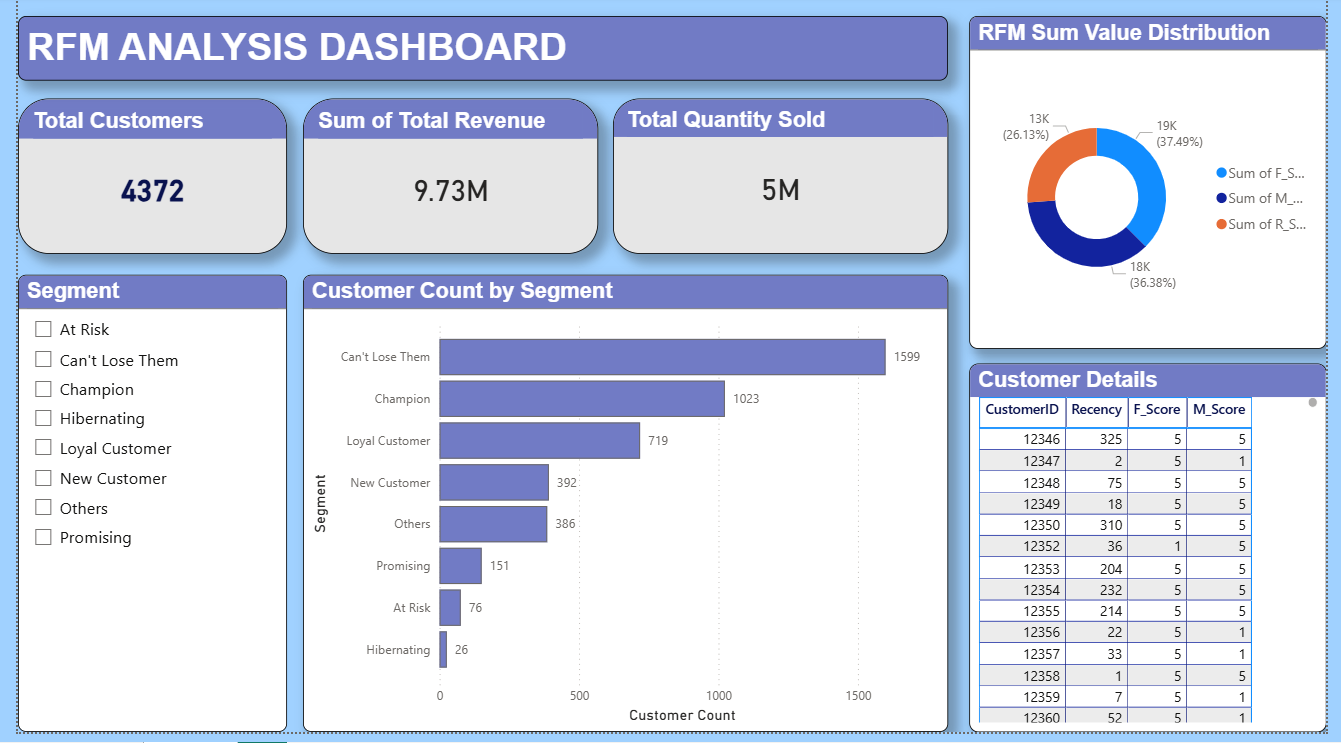

Layout of this report page (visuals, bound fields, positions):
{"tool":"powerbi","page":{"name":"Page 1","canvas":[1280,720],"ordinal":0},"visuals":[{"type":"clusteredBarChart","fields":{"Category":["Customer RFM.Segment"],"Y":["Customer RFM.Customer Count"]},"box":[278.8,272.7,631,447.6],"z":0},{"type":"card","title":"Total Customers","fields":{"Values":["CountNonNull(Customer RFM.CustomerID)"]},"box":[0,100.3,262.9,151.6],"z":1000},{"type":"donutChart","title":"RFM Sum Value Distribution","fields":{"Y":["Sum(Customer RFM.F_Score)","Sum(Customer RFM.M_Score)","Sum(Customer RFM.R_Score)"]},"box":[930.6,19.6,349.7,325.3],"z":2000},{"type":"tableEx","title":"Customer Details","fields":{"Values":["Customer RFM.CustomerID","Customer RFM.Recency","Customer RFM.F_Score","Customer RFM.M_Score"]},"box":[930.6,359.5,349.7,360.7],"z":3000},{"type":"slicer","title":"Segment","fields":{"Values":["Customer RFM.Segment"]},"box":[0,272.7,262.9,447.6],"z":4000},{"type":"textbox","box":[0,19.6,909.8,63.6],"z":5000},{"type":"card","title":"Sum of Total Revenue","fields":{"Values":["Sum(SalesData.Total Revenue)"]},"box":[278.8,100.3,288.6,151.6],"z":6000},{"type":"card","title":"Total Quantity Sold","fields":{"Values":["Sum(SalesData.Quantity)"]},"box":[582.1,100.3,327.7,151.6],"z":7000}]}

Visuals, with their boxes in screenshot pixels (x1, y1, x2, y2), scaled from the page's 1280x720 canvas onto the 1341x743 screenshot:
clusteredBarChart - Customer RFM.Segment x Customer RFM.Customer Count: x1=292, y1=281, x2=953, y2=742
"Total Customers" card: x1=0, y1=104, x2=275, y2=260
"RFM Sum Value Distribution" donutChart: x1=975, y1=20, x2=1340, y2=356
"Customer Details" tableEx: x1=975, y1=371, x2=1340, y2=742
"Segment" slicer: x1=0, y1=281, x2=275, y2=742
textbox: x1=0, y1=20, x2=953, y2=86
"Sum of Total Revenue" card: x1=292, y1=104, x2=594, y2=260
"Total Quantity Sold" card: x1=610, y1=104, x2=953, y2=260
